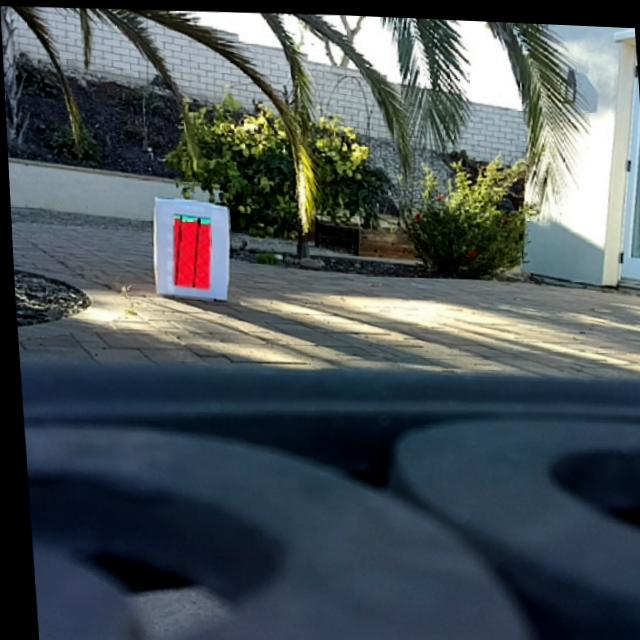led: (166, 210, 213, 291)
